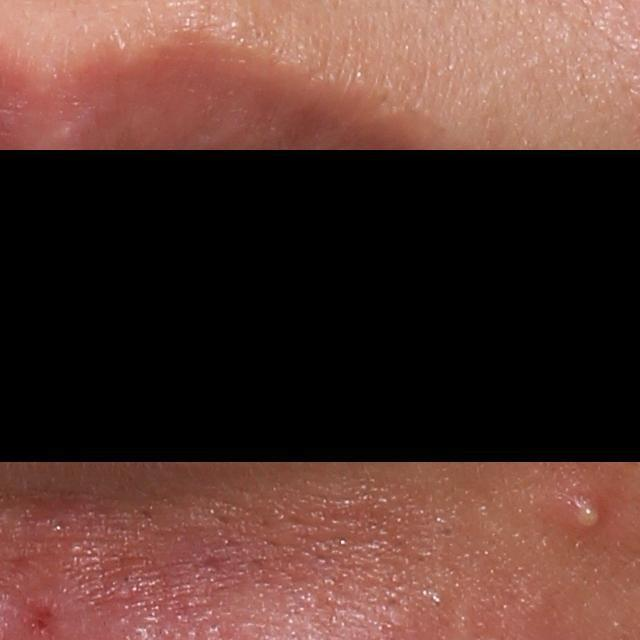comedo: (435, 520, 457, 543)
pustule: (554, 471, 620, 538)
